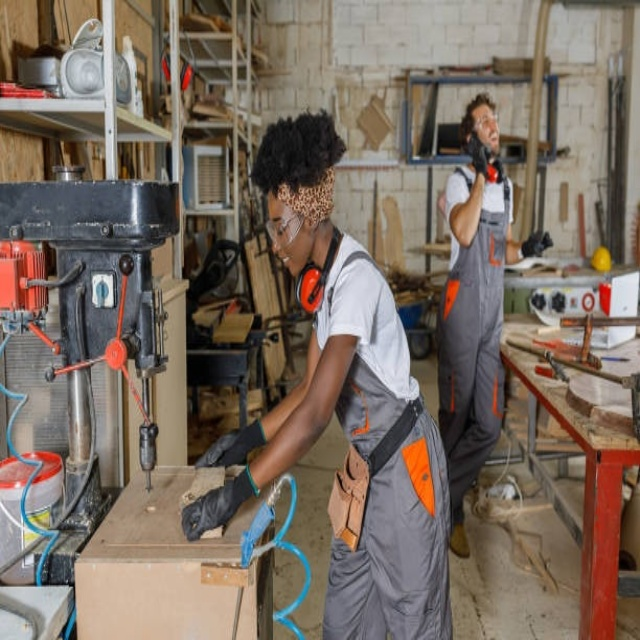Gafas: (265, 210, 305, 249), (473, 113, 499, 130)
Guantes: (179, 463, 258, 544), (210, 413, 269, 466), (517, 226, 555, 259), (470, 140, 490, 185)
Sin_mascara: (275, 249, 299, 275)
